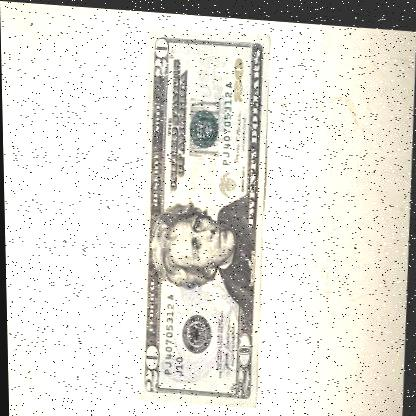twenty-front: (131, 21, 278, 404)
